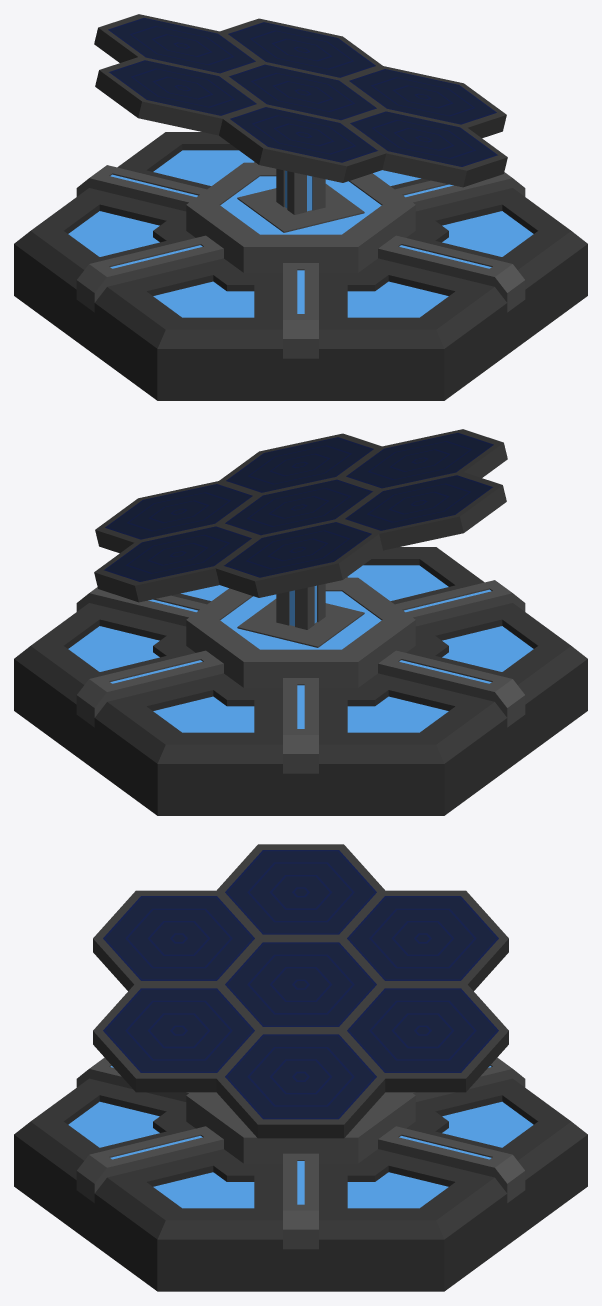
File: SolarPanel_TD_5.fbx
3 renders of one model, top to bottom at view 1: azimuth 30°, elevation 25°; view 2: azimuth 150°, elevation 25°; view 3: azimuth 270°, elevation 25°, orthographic.
Parts seen in each view (by area): view 1: Cylinder.008, Cylinder.007; view 2: Cylinder.008, Cylinder.007; view 3: Cylinder.008, Cylinder.007.
Part boxes in pixels (left/top/right/bottom): Cylinder.008: left=14, top=132, right=587, bottom=400; Cylinder.007: left=94, top=14, right=507, bottom=187; Cylinder.008: left=14, top=547, right=587, bottom=815; Cylinder.007: left=94, top=429, right=507, bottom=602; Cylinder.008: left=14, top=1057, right=587, bottom=1291; Cylinder.007: left=93, top=844, right=508, bottom=1138.
Size of the model in its own units: 693 by 391 by 800.
